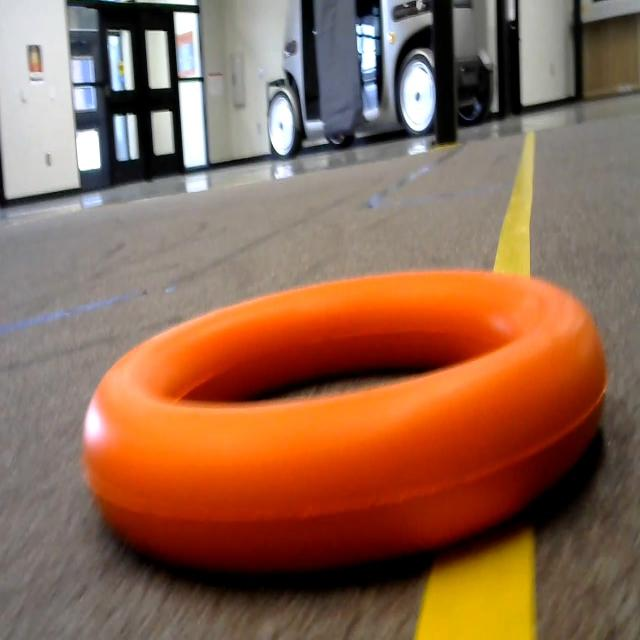note: (78, 278, 632, 588)
